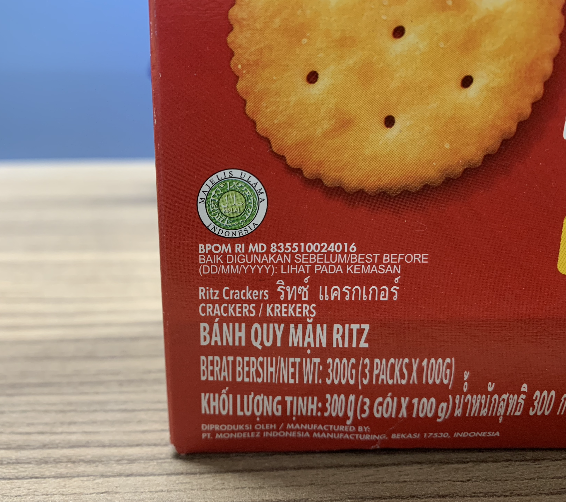halal: (206, 175, 260, 230)
